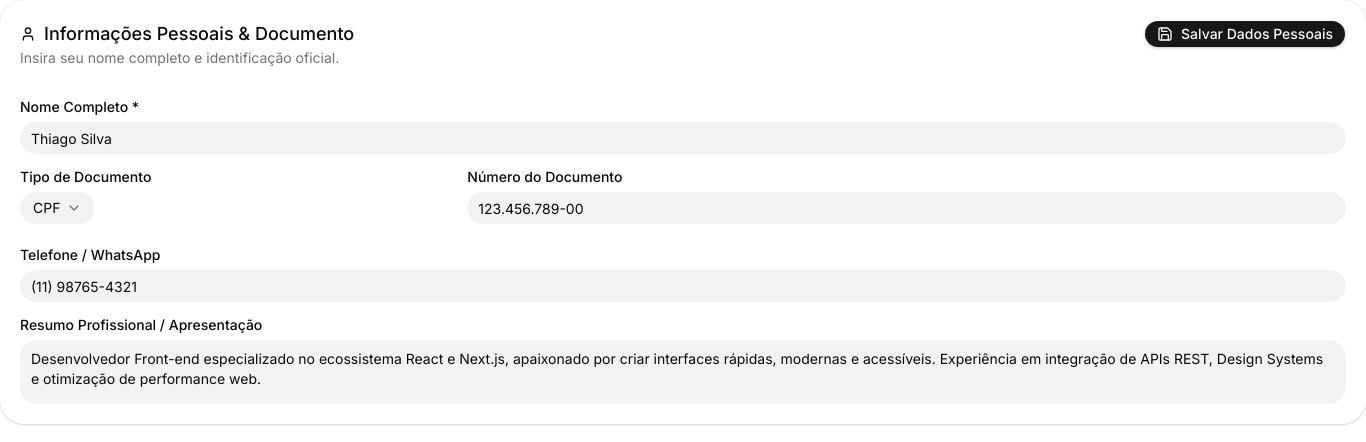
CandidatePersonalInfoSection Component › resets form with updated profile data when the mutation succeeds
This screenshot has width=1366, height=442.
Replace the text in the field labelled "Nome Completo *" with "Maria Souza". click: (683, 138)
box: [20,122,1346,154]
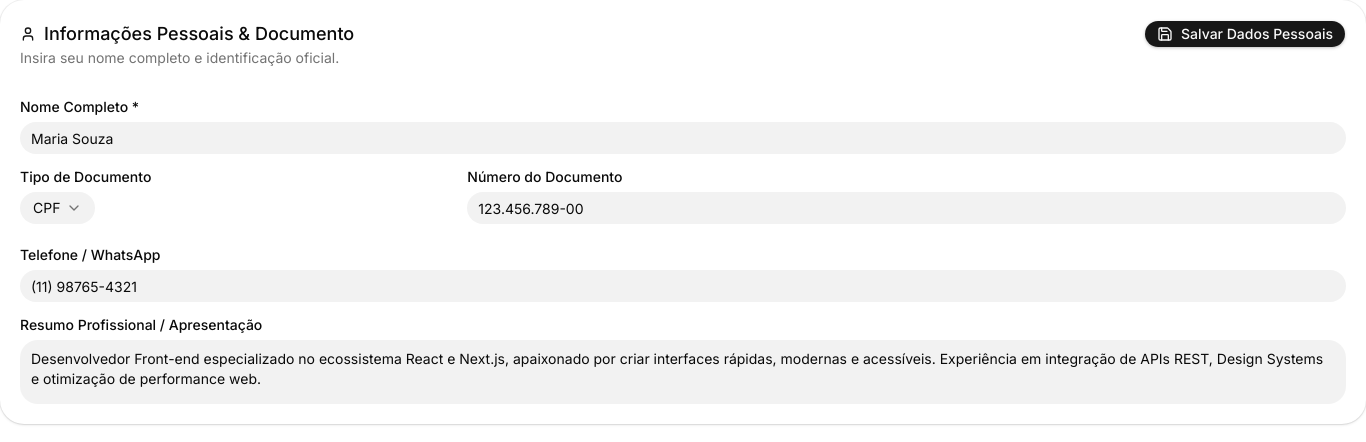
Click the button "Salvar Dados Pessoais". click: click(1245, 34)
box: [1144,20,1346,48]
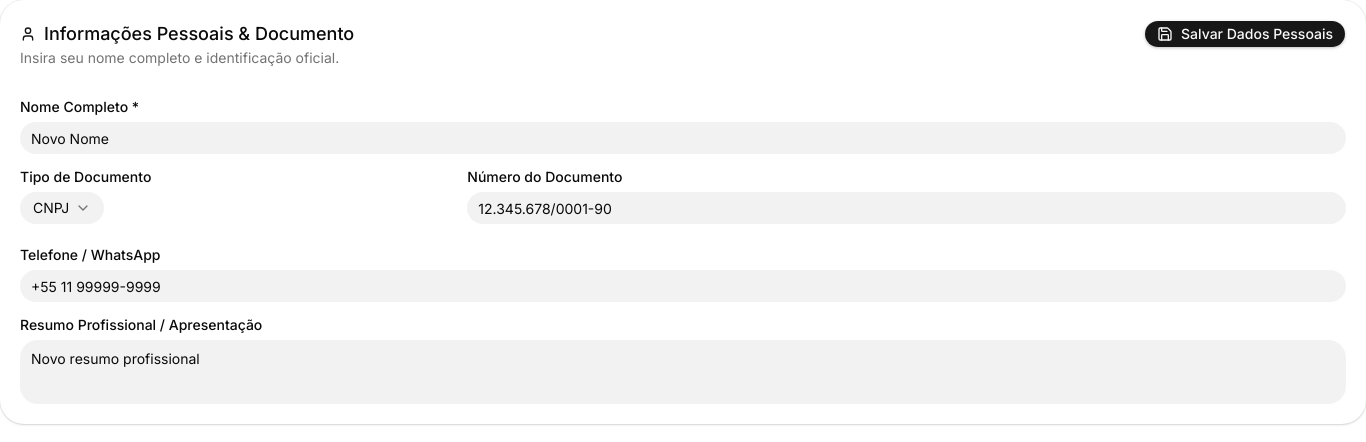
Now the field showing "Novo Nome" is shown, box [20,122,1346,154]
Now the field showing "12.345.678/0001-90" is shown, box [467,192,1346,224]
Now the field showing "+55 11 99999-9999" is shown, box [20,270,1346,302]
